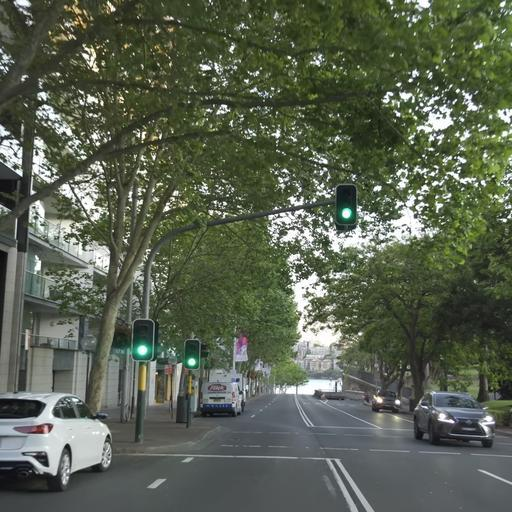Street light: (130, 182, 358, 441), (79, 332, 97, 403), (333, 183, 357, 230), (130, 318, 155, 362), (183, 338, 200, 369)
